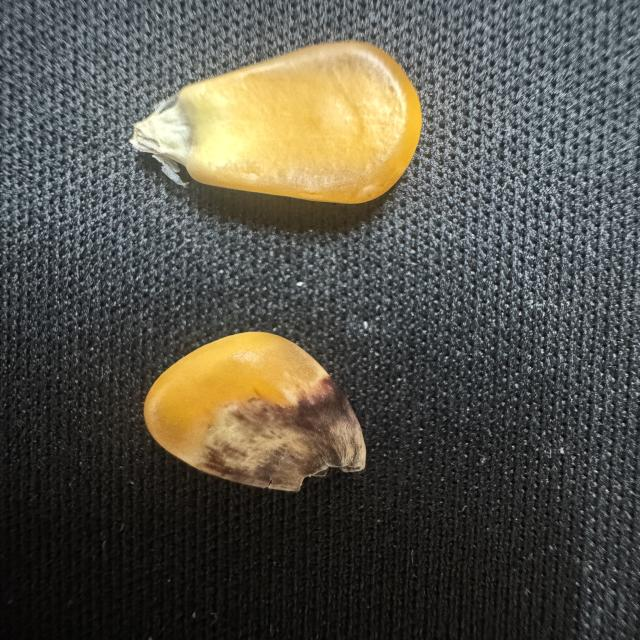Bad-Seed: (130, 322, 372, 502)
Good-Seed: (124, 33, 427, 211)
